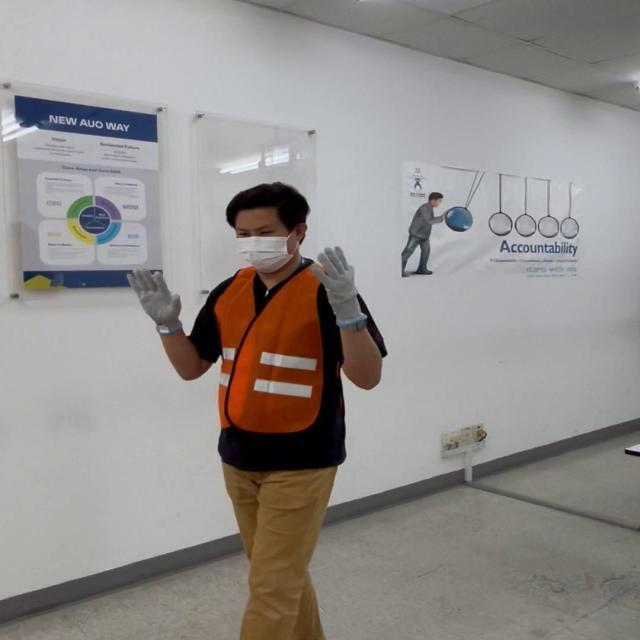gloved_hand: (312, 242, 369, 321), (127, 268, 191, 336)
